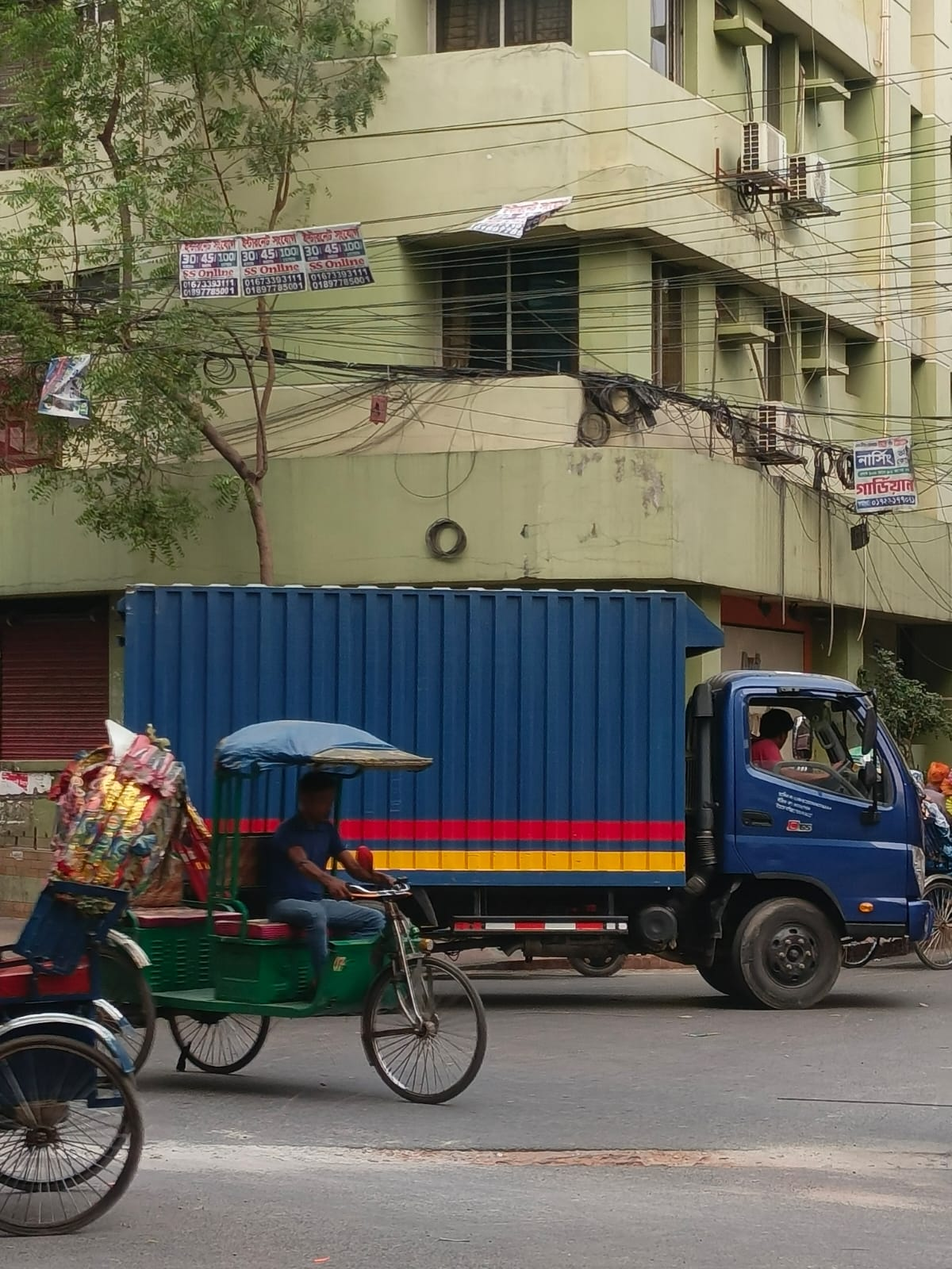Truck: (95, 572, 947, 1017)
